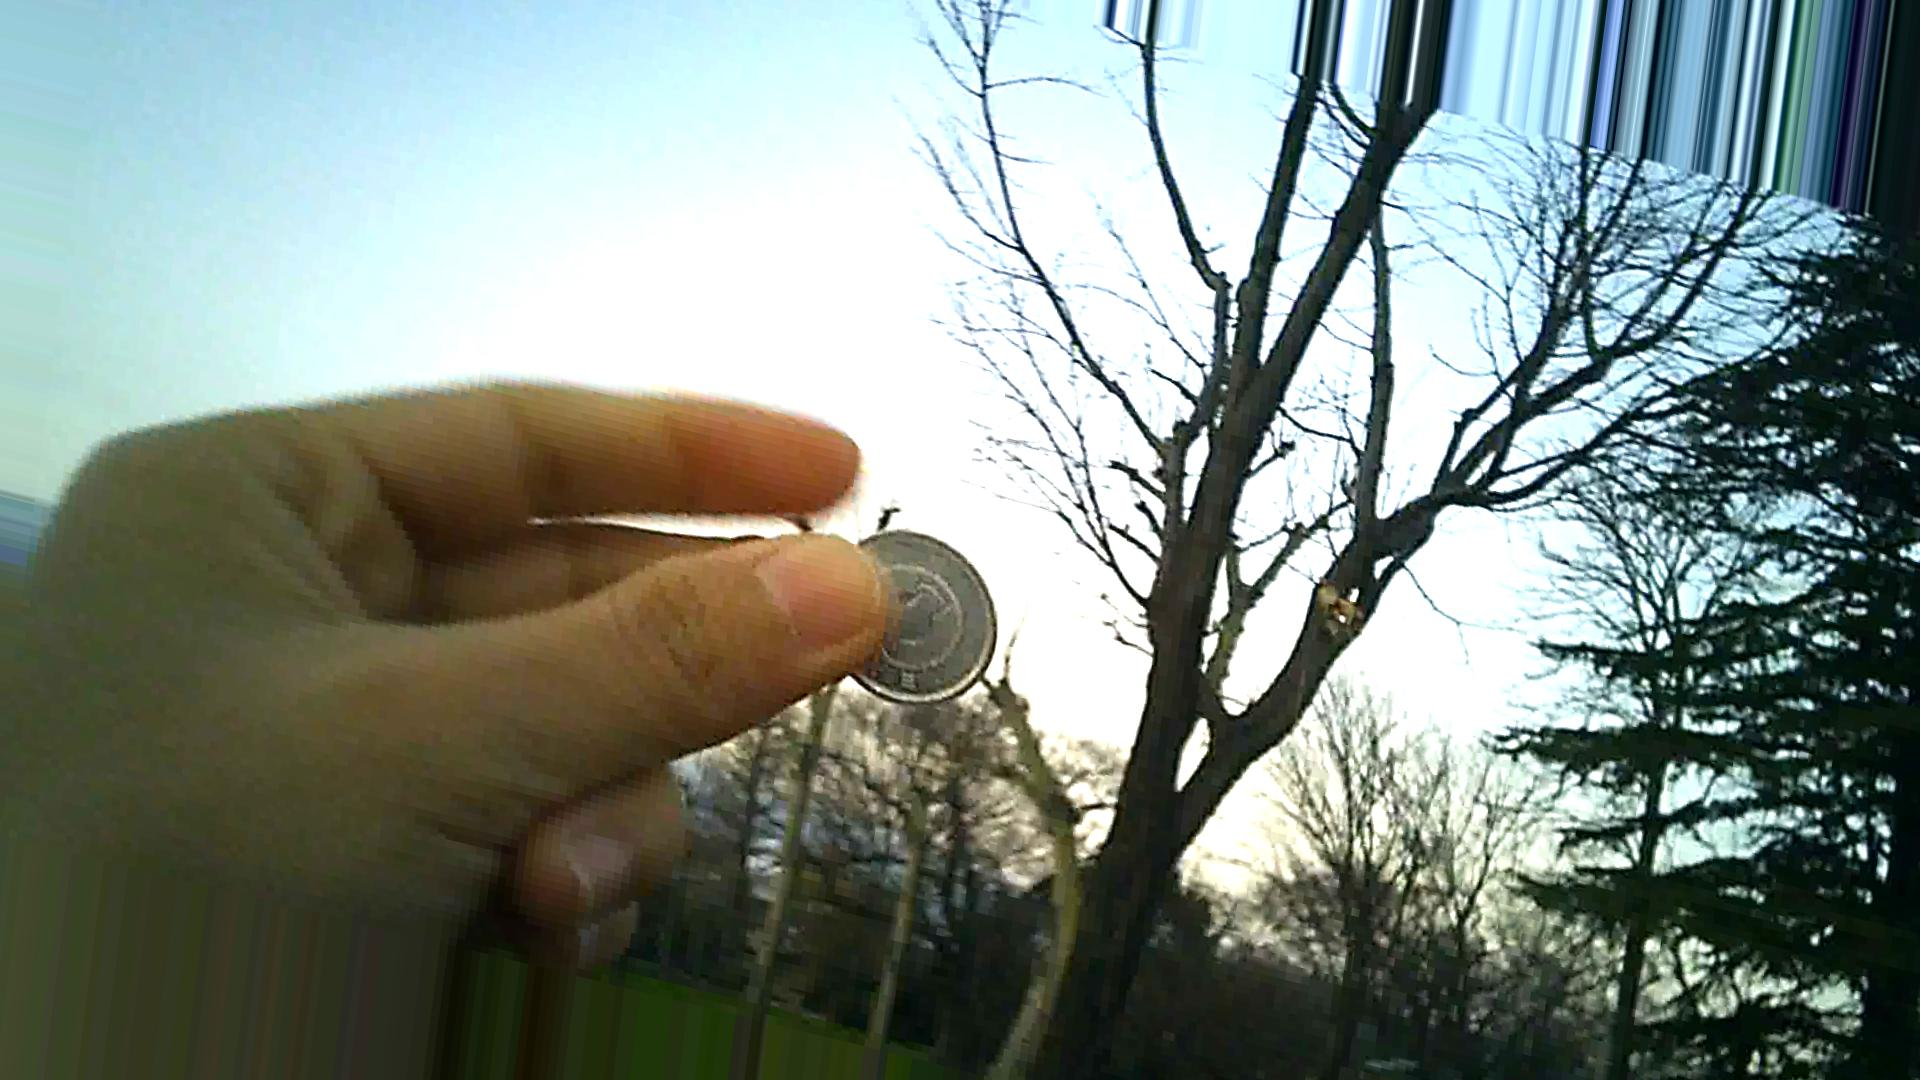1 Yen: (818, 512, 1005, 698)
